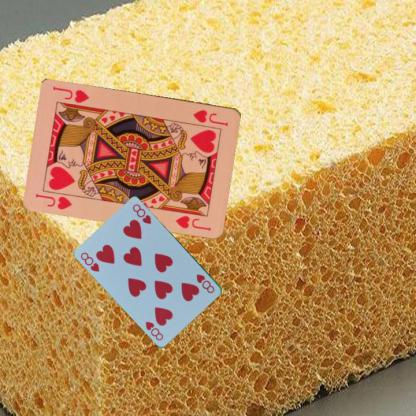8h: (78, 250, 101, 273), (194, 272, 216, 294)
Jh: (33, 191, 73, 211), (191, 107, 230, 127)
